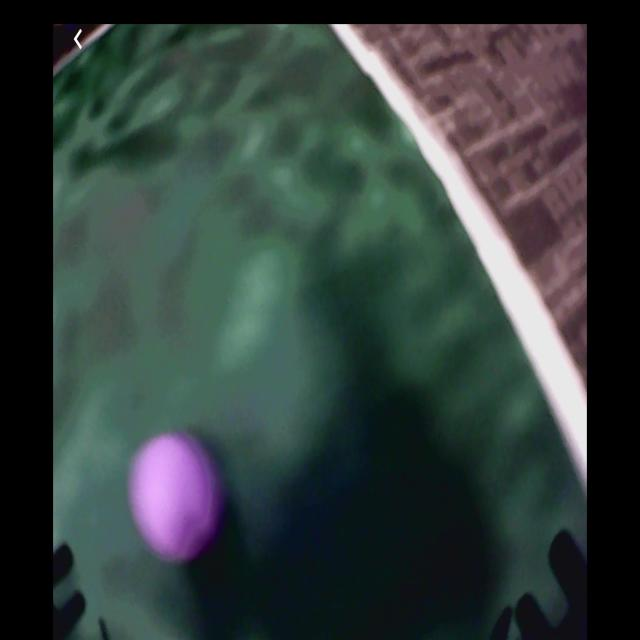ball: (134, 436, 214, 556)
